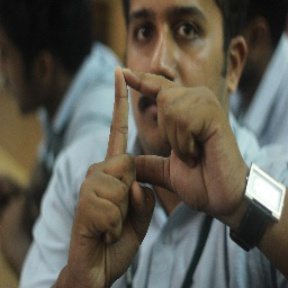D: (86, 59, 204, 196)
